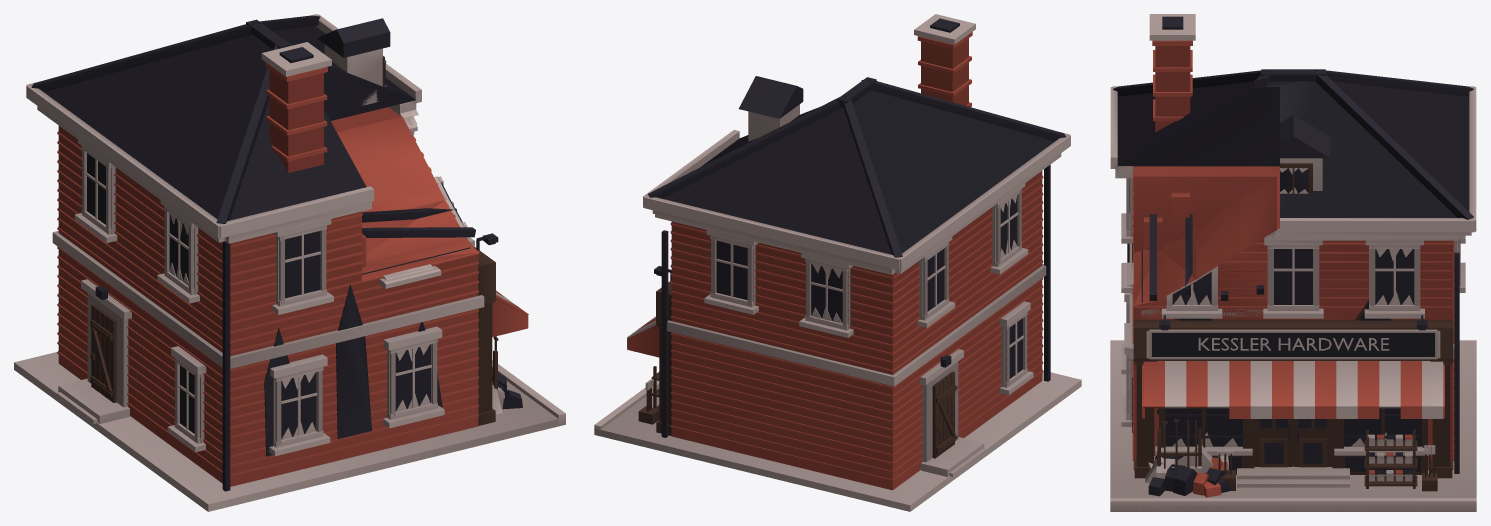
Rendered from bld.kessler-hardware.w5.lod1.glb.
3 renders of one model, left to right at view 1: azimuth 30°, elevation 25°; view 2: azimuth 150°, elevation 25°; view 3: azimuth 270°, elevation 25°, orthographic. The views are drawn at different scales.
Visible parts, largest first — view 1: body, door_cellar; view 2: body, door_cellar; view 3: body.
Boxes of the visible parts, x1,y1,x2,y2 form: body: [14, 14, 565, 511]; door_cellar: [90, 304, 116, 402]; body: [594, 14, 1081, 511]; door_cellar: [932, 371, 957, 458]; body: [1110, 14, 1476, 511].
Bounding box in the file's own units: 10.08 × 10.8 × 9.4.
